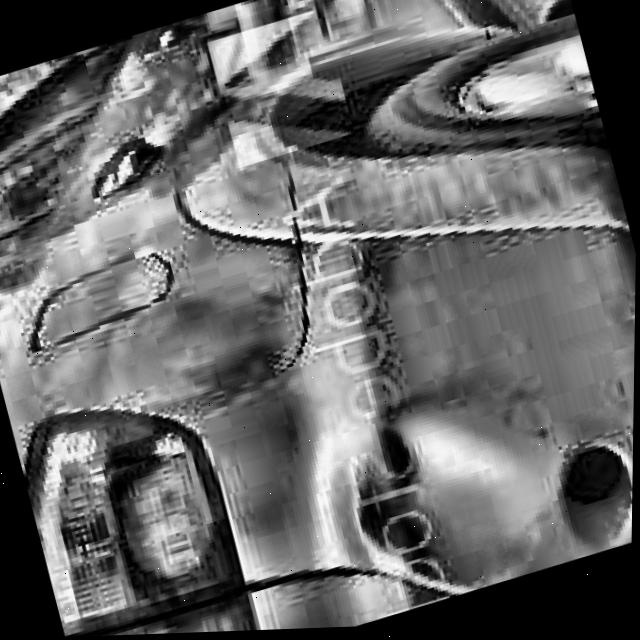bumper_dent: (332, 370, 561, 619)
